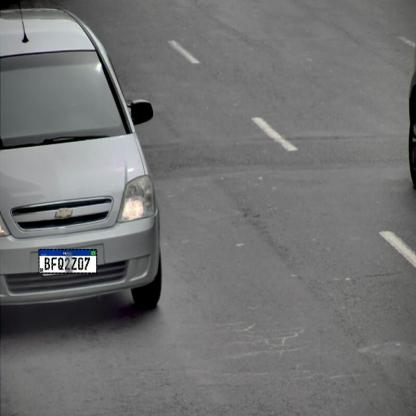PlacaM: (38, 249, 98, 274)
